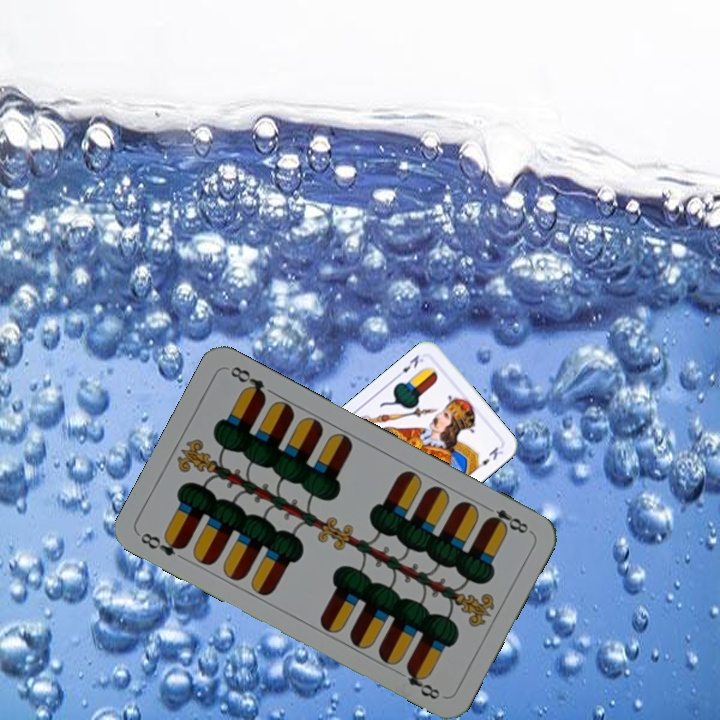E8: (480, 501, 534, 537), (136, 528, 189, 559)
EK: (392, 351, 426, 381)
